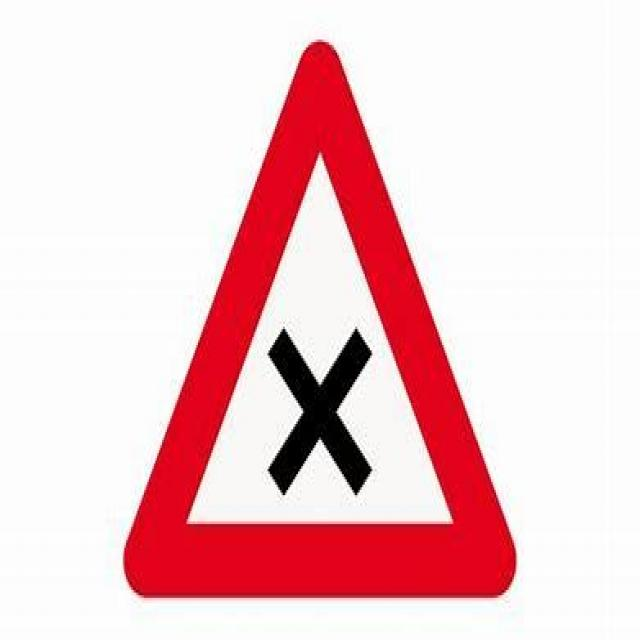CROSS_ROAD: (120, 31, 516, 608)
